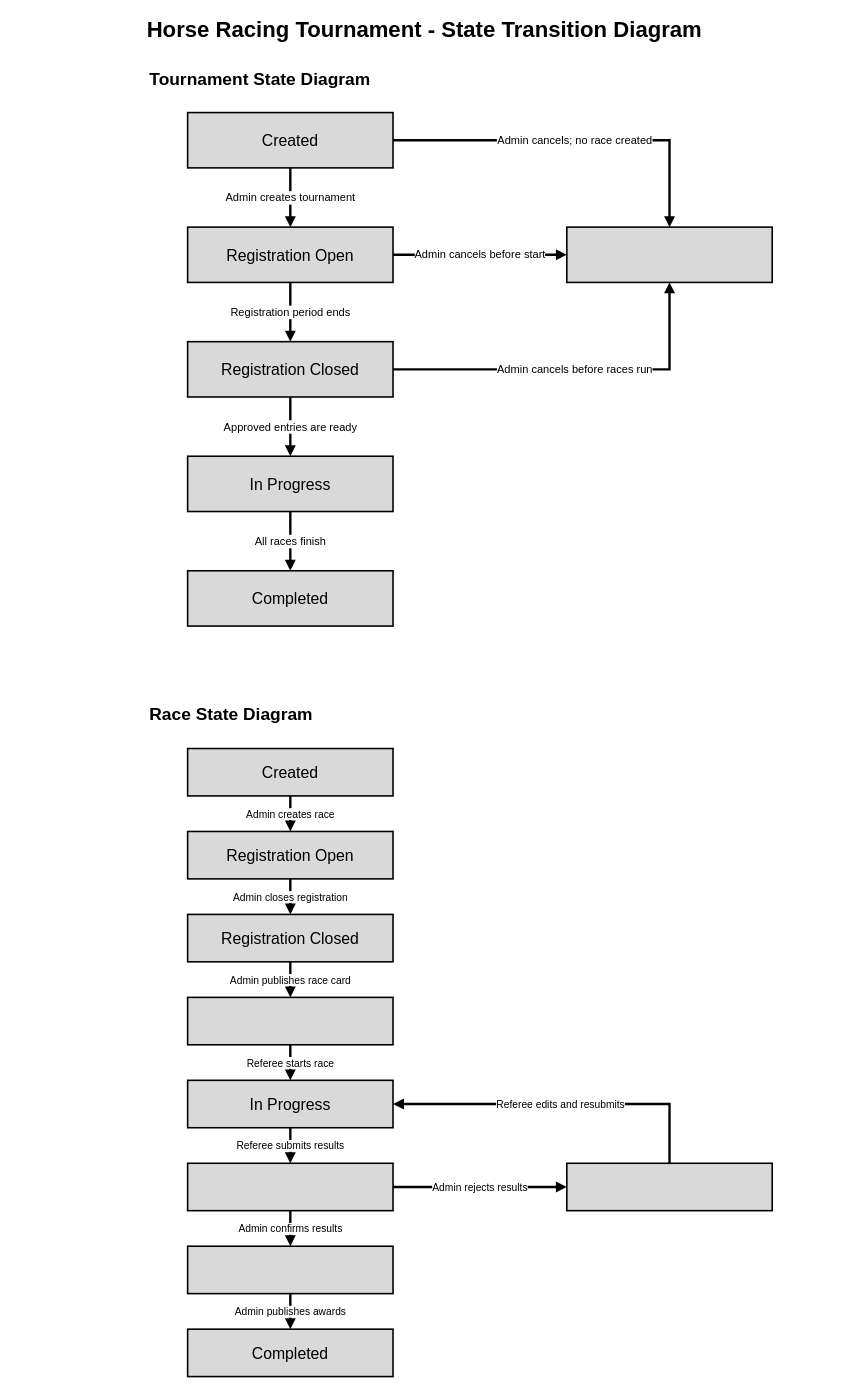
Image size: 848x1390. Some labels were removed from this diagram. The shapes that lost their labels are listed below. From the top down, each one's centre as x and y in pixels, then its label:
At point (669, 254): "Cancelled".
At point (289, 1020): "Published".
At point (289, 1186): "Results Submitted".
At point (669, 1186): "Results Rejected".
At point (289, 1269): "Official Results Published".
